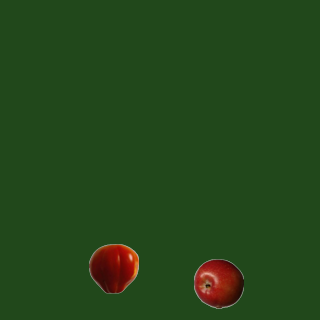Apple Braeburn: (193, 258, 243, 308)
Tomato 1: (88, 243, 138, 293)
